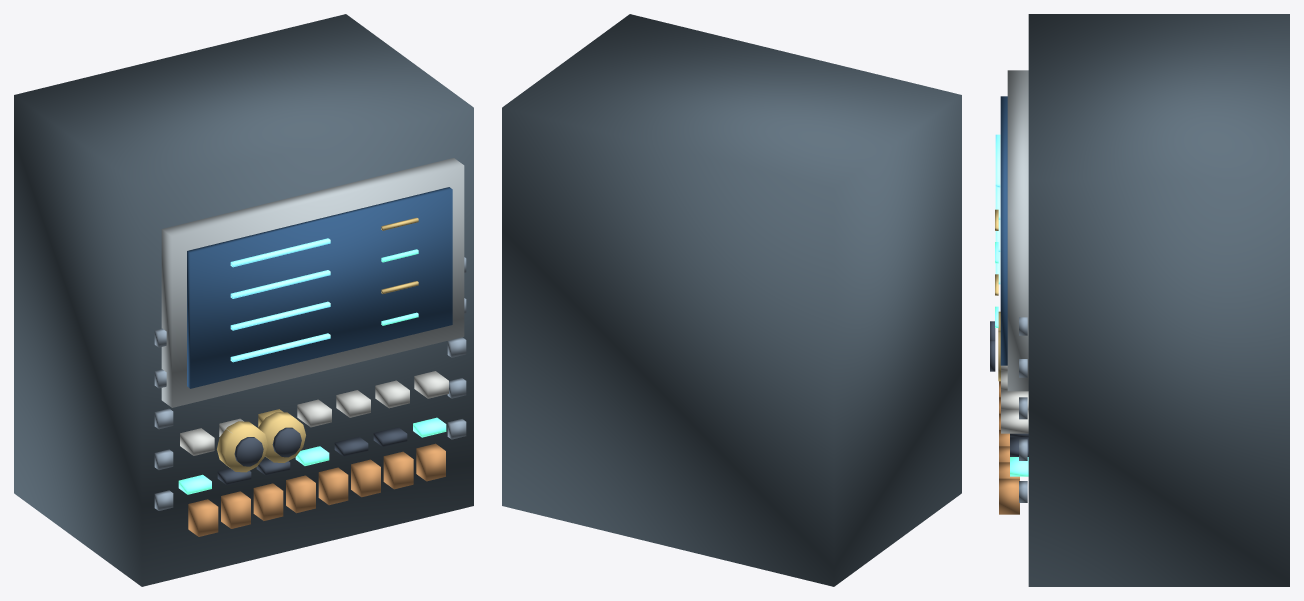
The model's file is 70_L84_Regulated5VControlSupply.glb.
3 views of the same model, side by side, from view 1: azimuth 30°, elevation 25°; view 2: azimuth 150°, elevation 25°; view 3: azimuth 270°, elevation 25° (orthographic). The views are drawn at different scales.
Parts seen in each view (by area): view 1: L84_Regulated5VControlSupply, L84_Regulated5VControlSupply_Part_0011, L84_Regulated5VControlSupply_Part_0013, L84_Regulated5VControlSupply_Part_0014, L84_Regulated5VControlSupply_Part_0012; view 2: L84_Regulated5VControlSupply; view 3: L84_Regulated5VControlSupply.
Boxes of the visible parts, x1,y1,x2,y2 form: L84_Regulated5VControlSupply: [14, 14, 473, 586]; L84_Regulated5VControlSupply_Part_0011: [217, 421, 267, 472]; L84_Regulated5VControlSupply_Part_0013: [258, 412, 305, 462]; L84_Regulated5VControlSupply_Part_0014: [272, 427, 301, 457]; L84_Regulated5VControlSupply_Part_0012: [234, 437, 263, 466]; L84_Regulated5VControlSupply: [502, 14, 961, 586]; L84_Regulated5VControlSupply: [995, 14, 1289, 586].
Bounding box in the file's own units: 0.9996 × 1.15 × 0.7652.
